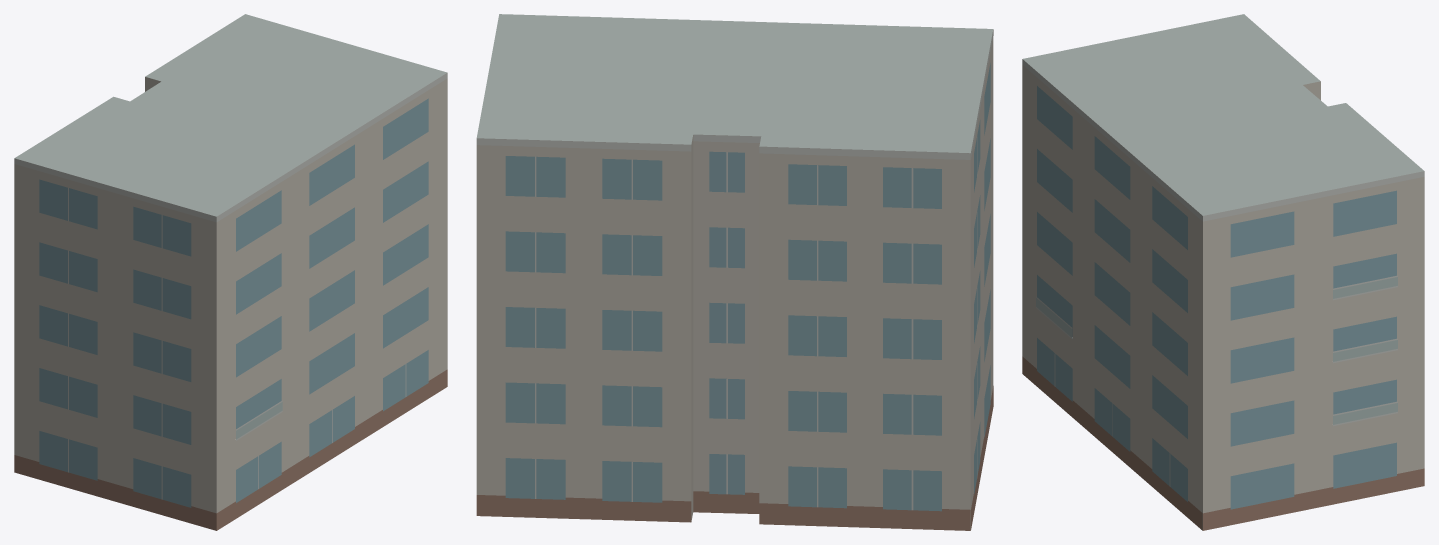
The model's file is survey-upis-32702400.glb.
3 views of the same model, side by side, from view 1: azimuth 30°, elevation 25°; view 2: azimuth 150°, elevation 25°; view 3: azimuth 270°, elevation 25° (orthographic). The views are drawn at different scales.
Visible parts, largest first — view 1: survey-upis-32702400.tmp; view 2: survey-upis-32702400.tmp; view 3: survey-upis-32702400.tmp.
Part boxes in pixels (x1=…): survey-upis-32702400.tmp: x1=14, y1=14, x2=447, y2=530; survey-upis-32702400.tmp: x1=476, y1=14, x2=993, y2=530; survey-upis-32702400.tmp: x1=1022, y1=14, x2=1424, y2=530.
Size of the model in its own units: 18.57 by 13.5 by 15.63.
